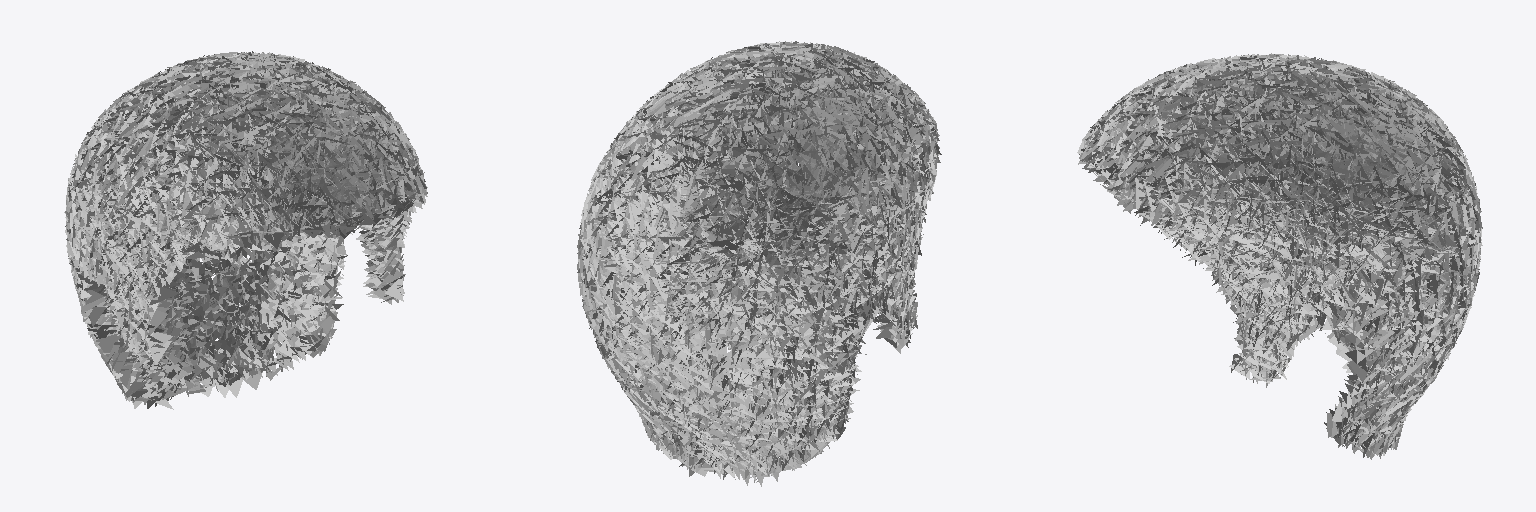
The picture shows the model from 3 angles: view 1: azimuth 30°, elevation 25°; view 2: azimuth 150°, elevation 25°; view 3: azimuth 270°, elevation 25°; orthographic projection.
Parts seen in each view (by area): view 1: T2_null; view 2: T2_null; view 3: T2_null.
Part boxes in pixels (bbox=[...]): T2_null: bbox=[64, 51, 427, 409]; T2_null: bbox=[577, 41, 941, 486]; T2_null: bbox=[1077, 53, 1482, 459].
Size of the model in its own units: 0.0746 by 0.0922 by 0.0921.